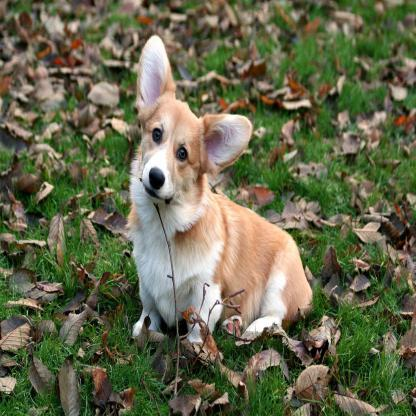Korgi: (126, 33, 314, 345)
